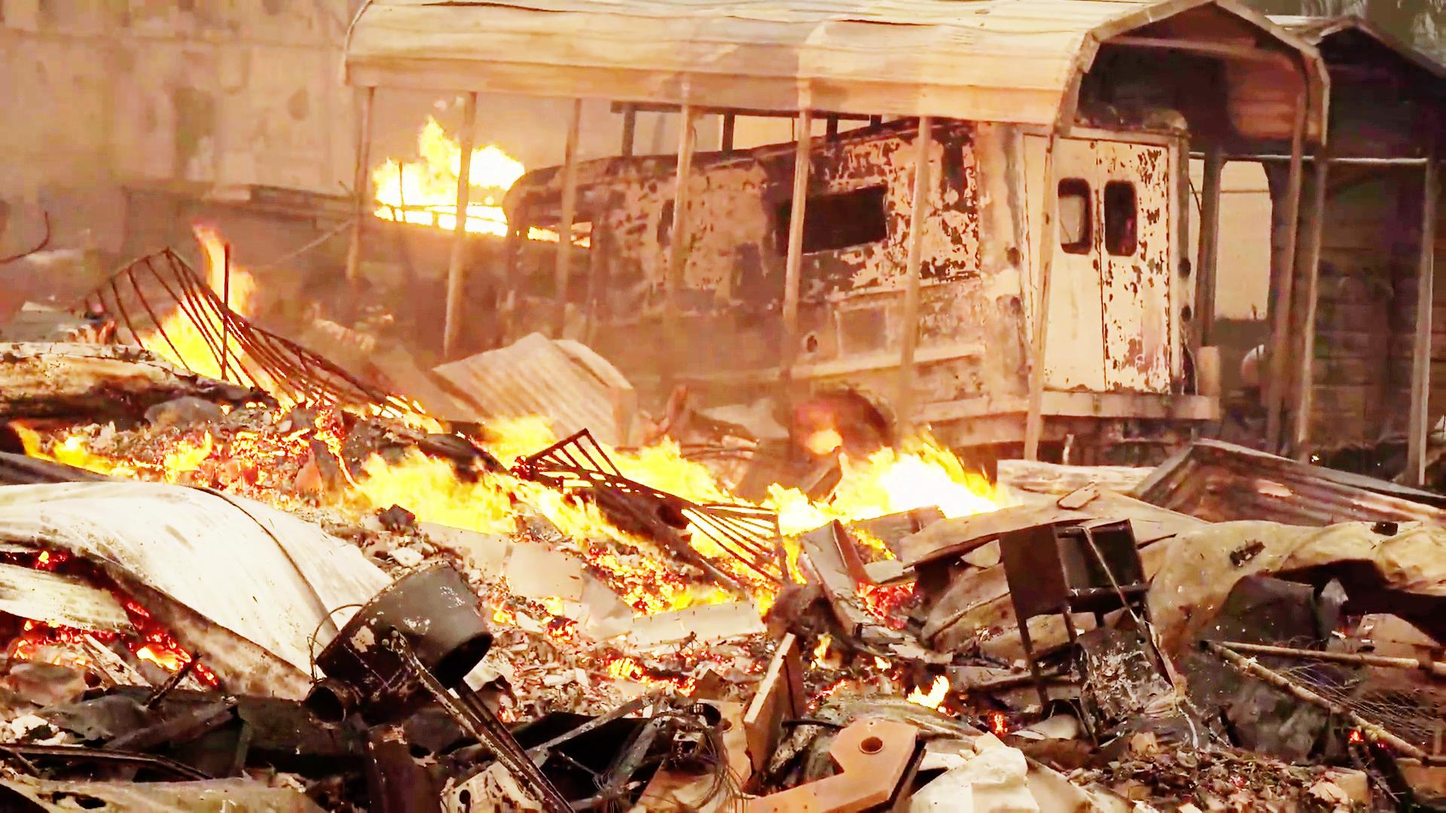fire: (448, 388, 722, 580), (802, 409, 1002, 542), (353, 115, 539, 243), (151, 239, 269, 375)
